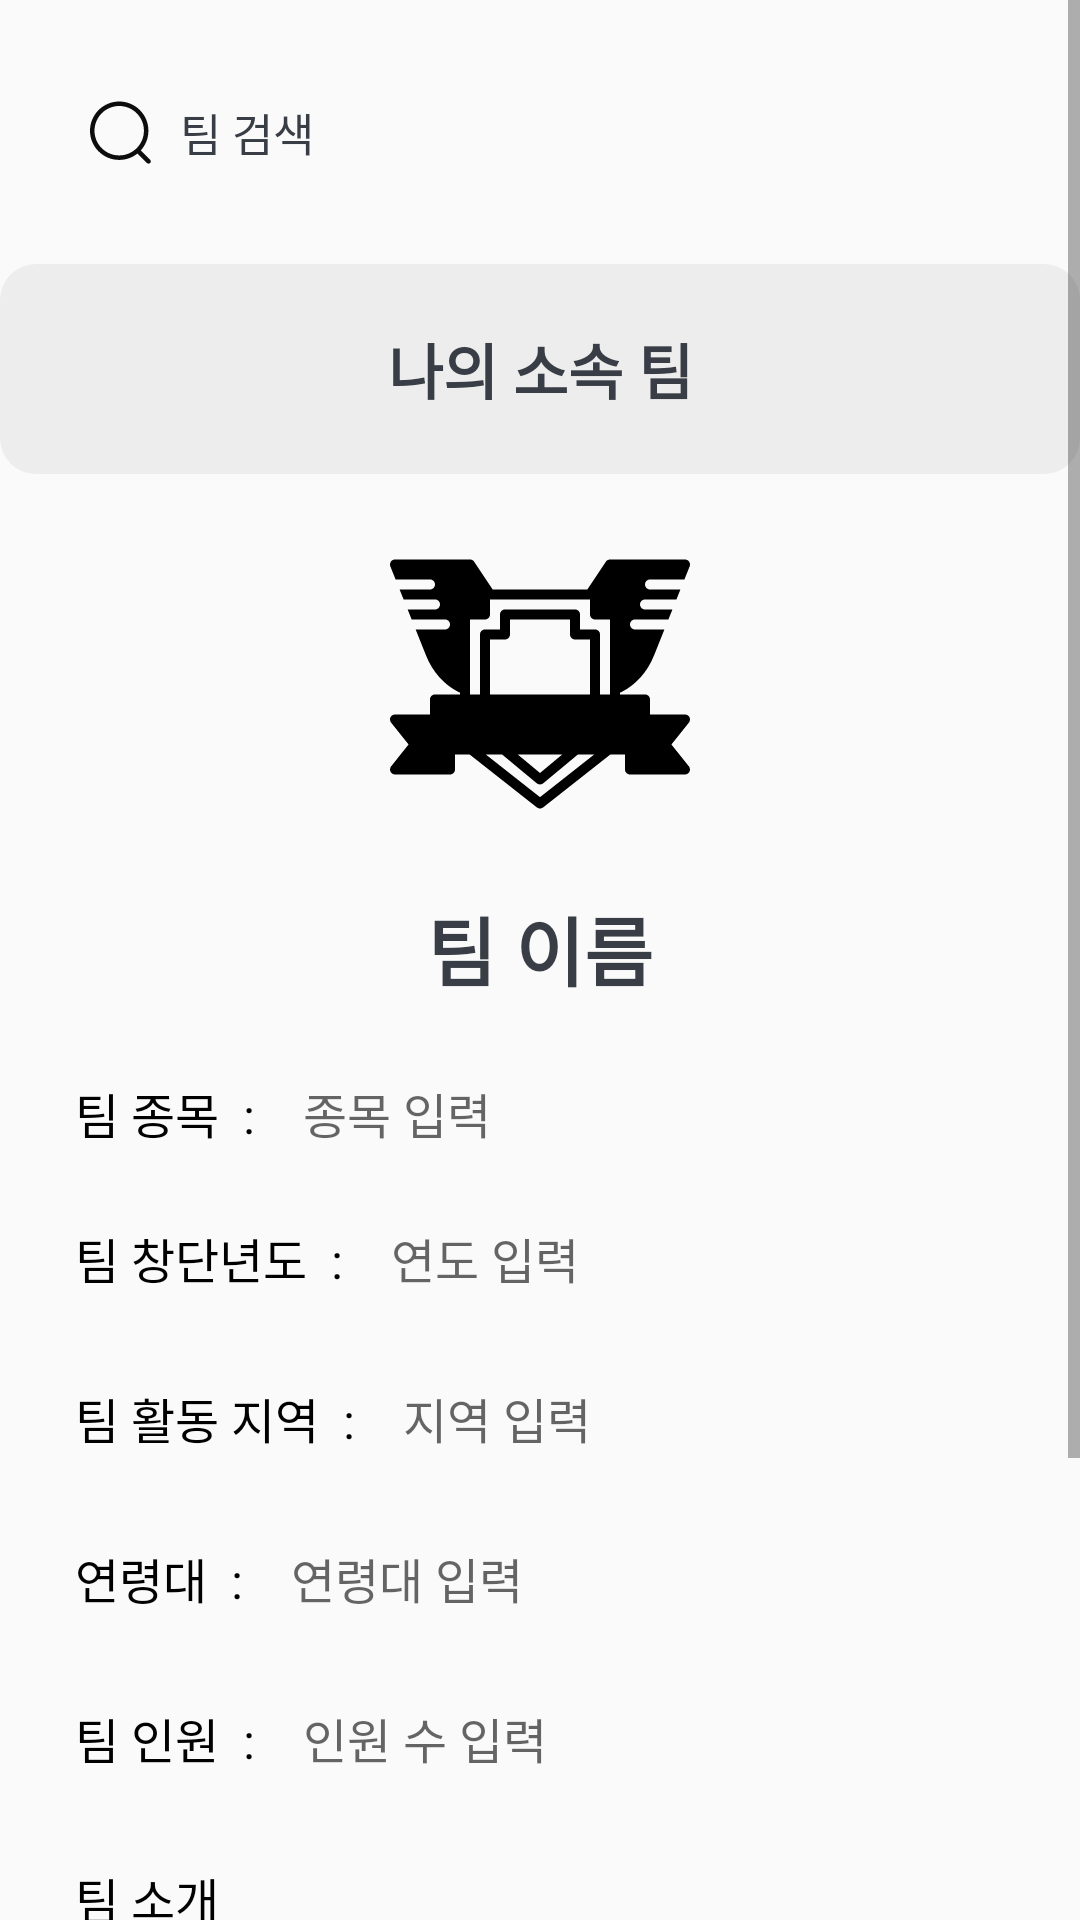

Where icons sit on this 1080x1920 app screen, as detection(x1, y1, x2, y2):
badge emblem: detection(390, 559, 690, 809)
